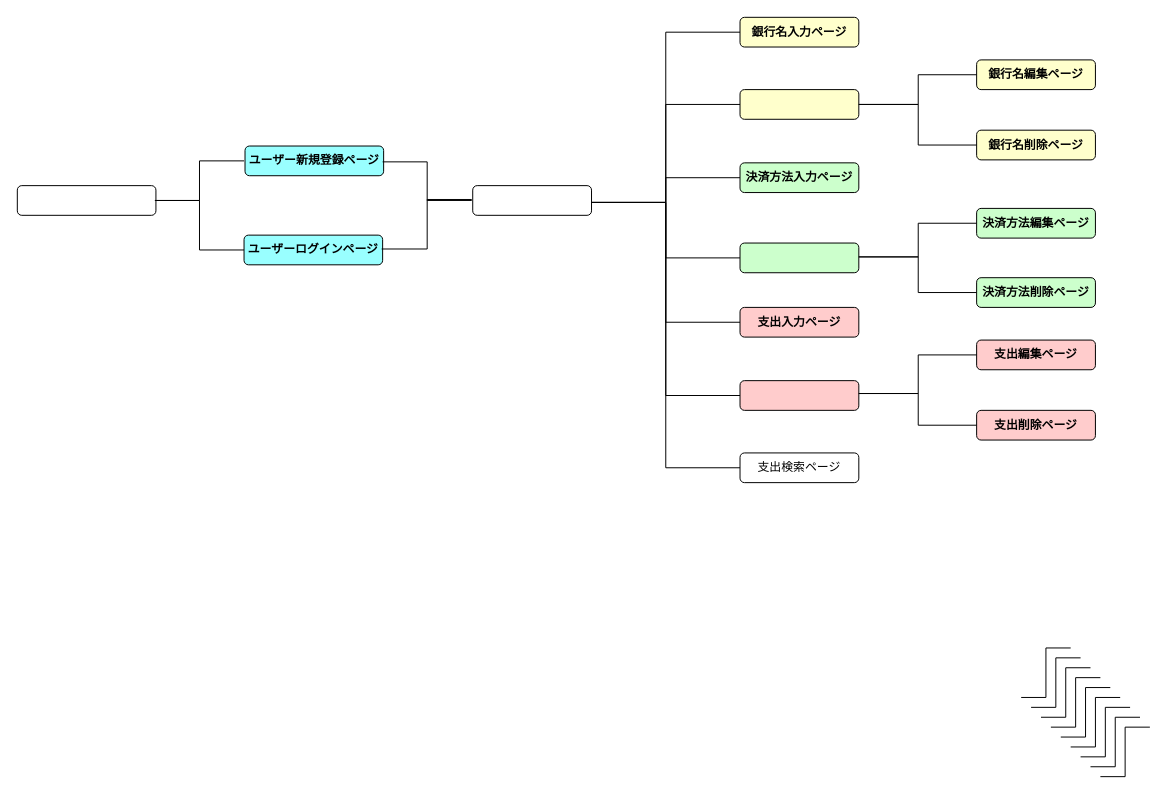
This 1168x795 diagram has some shape labels left out. Here are the shapes that lost their labels. From the top down, the centre of each, then its label:
At point (799, 104): "銀行名詳細ページ".
At point (86, 200): "トップページ".
At point (532, 200): "一覧ページ".
At point (799, 257): "決済方法詳細ページ".
At point (799, 395): "支出詳細ページ".
